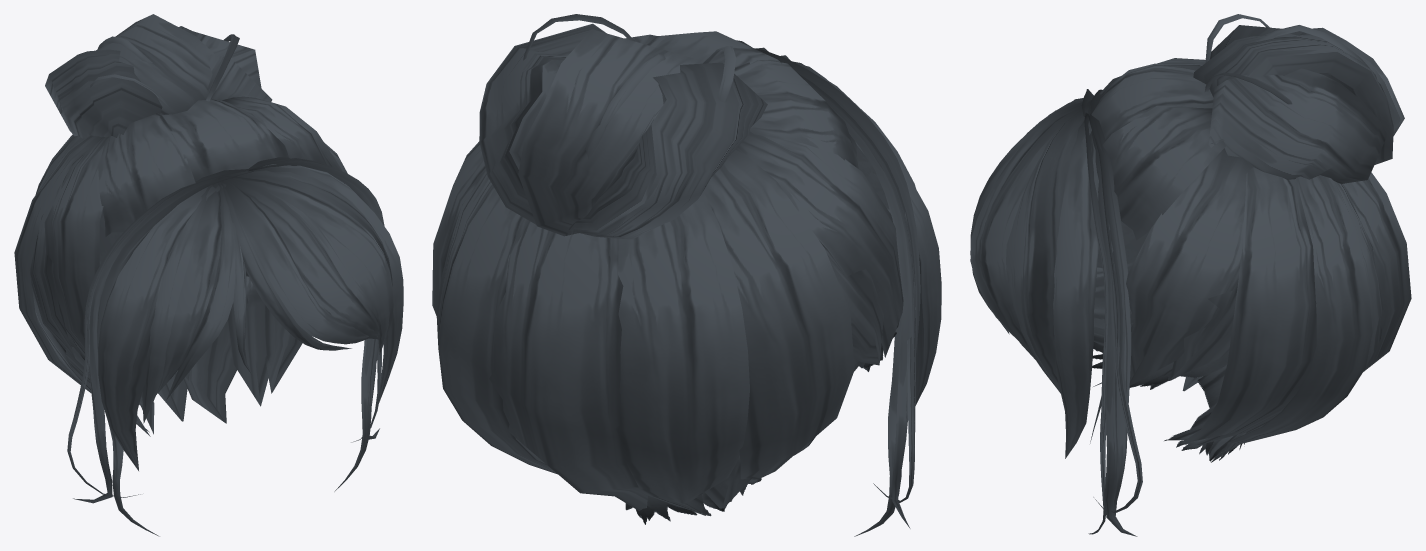
The model's file is hair_bun.glb.
3 renders of one model, left to right at view 1: azimuth 30°, elevation 25°; view 2: azimuth 150°, elevation 25°; view 3: azimuth 270°, elevation 25°, orthographic. The views are drawn at different scales.
Parts seen in each view (by area): view 1: hair3; view 2: hair3; view 3: hair3.
Boxes of the visible parts, bbox=[...] form: hair3: bbox=[14, 14, 403, 536]; hair3: bbox=[432, 14, 941, 536]; hair3: bbox=[970, 14, 1411, 536].
Bounding box in the file's own units: 0.2587 × 0.3269 × 0.2894.
Materials: 3 (3 with a texture image).
